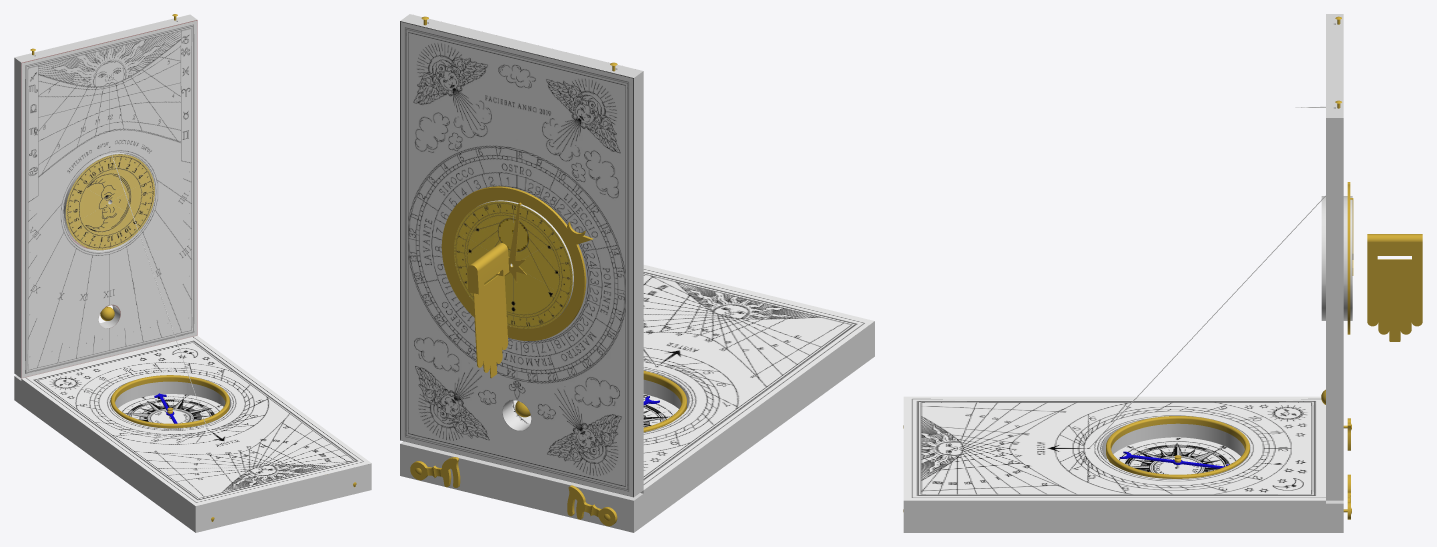
The model's file is diptych-sundial.glb.
3 views of the same model, side by side, from view 1: azimuth 30°, elevation 25°; view 2: azimuth 150°, elevation 25°; view 3: azimuth 270°, elevation 25° (orthographic). The views are drawn at different scales.
Parts seen in each view (by area): view 1: Body, Wheels, Mechanics; view 2: Body, Mechanics, Wheels; view 3: Body, Mechanics, Wheels.
Boxes of the visible parts, x1,y1,x2,y2 form: Body: (14, 14, 371, 532); Wheels: (63, 152, 264, 468); Mechanics: (30, 14, 356, 521); Body: (400, 14, 874, 532); Mechanics: (410, 16, 686, 526); Wheels: (454, 200, 733, 427); Body: (903, 14, 1343, 532); Mechanics: (903, 16, 1422, 519); Wheels: (950, 196, 1352, 474).
Size of the model in its own units: 70 by 132 by 148.
11 materials, 7 textured.
